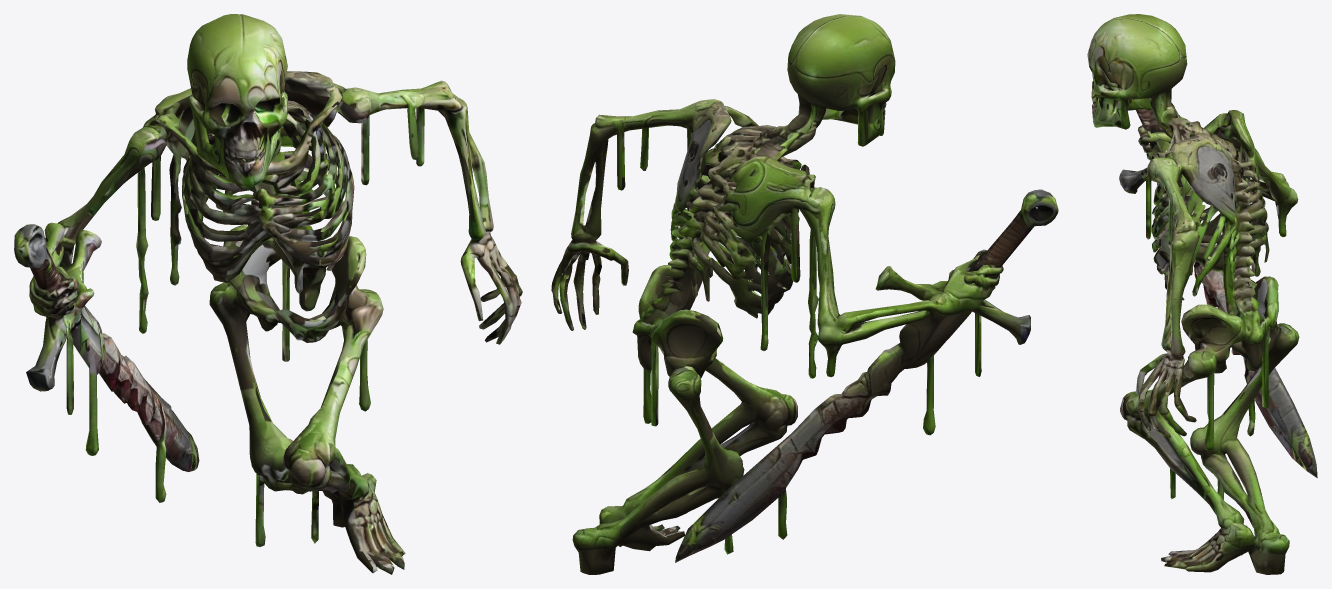
Rendered from u_goo_skeleton.glb.
The picture shows the model from 3 angles, left to right: view 1: azimuth 30°, elevation 25°; view 2: azimuth 150°, elevation 25°; view 3: azimuth 270°, elevation 25°; orthographic projection. The views are drawn at different scales.
Parts seen in each view (by area): view 1: Skeleton; view 2: Skeleton; view 3: Skeleton.
Boxes of the visible parts, bbox=[...] form: Skeleton: bbox=[14, 14, 522, 574]; Skeleton: bbox=[551, 14, 1058, 574]; Skeleton: bbox=[1087, 14, 1317, 574].
Bounding box in the file's own units: 1.38 × 1.5 × 0.6542.
Materials: 1 (1 with a texture image).
